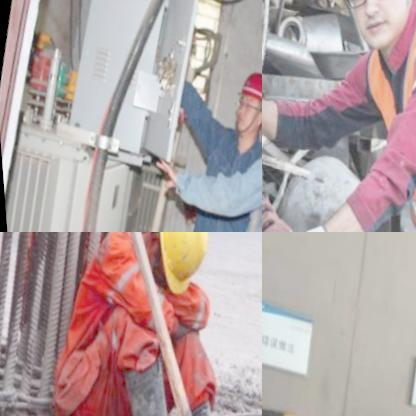helmet: (301, 0, 416, 71), (131, 232, 225, 295), (223, 62, 262, 140)
